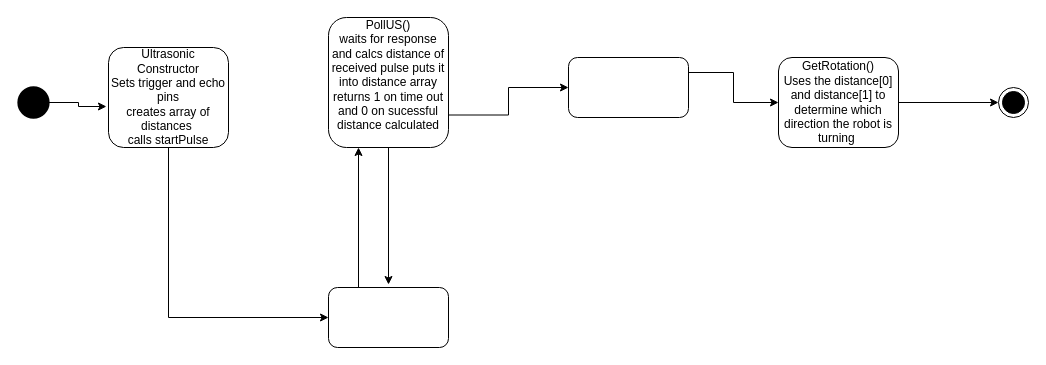
This 1046x365 diagram has some shape labels left out. Each missing label, with the centre of its shape:
GetResponse() returns the distance at index of input pos on distance array: pixel 628 87
Start Pulse() sets start time for pulse: pixel 388 317
